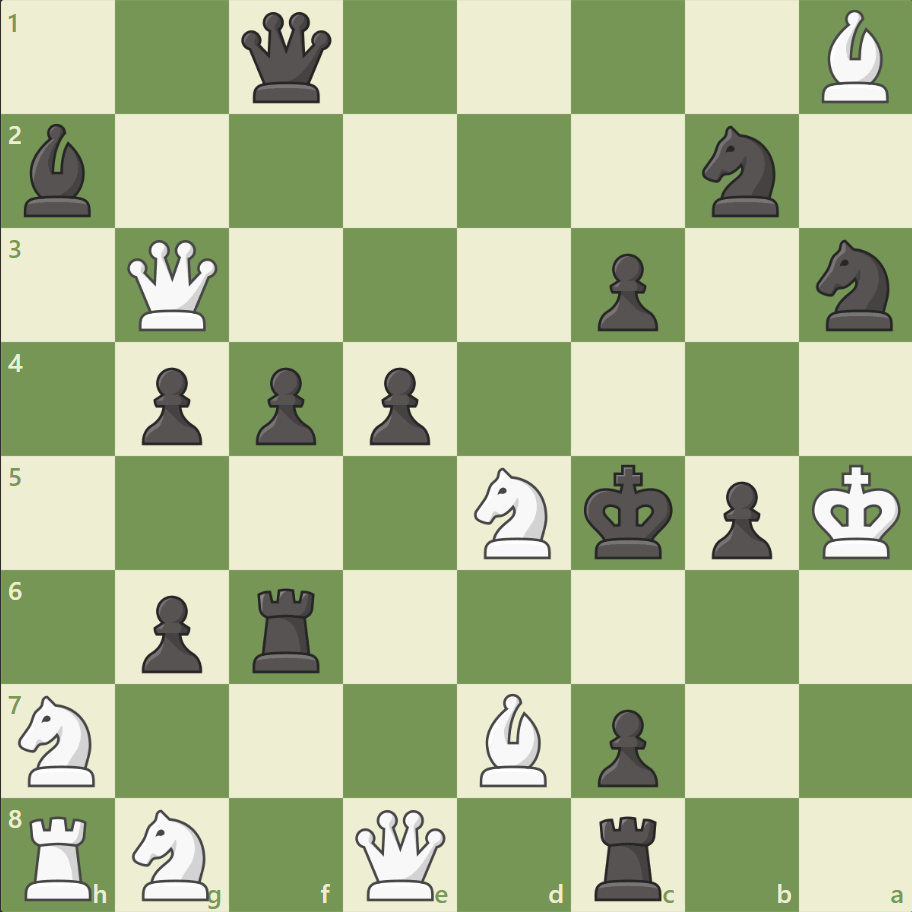B: (471, 687, 555, 790), (812, 6, 896, 109)
K: (806, 458, 906, 566)
N: (124, 802, 222, 904), (11, 688, 108, 791), (465, 461, 562, 564)
Q: (351, 804, 450, 903), (124, 236, 223, 335)
R: (19, 806, 102, 904)
b: (17, 120, 101, 222)
k: (579, 458, 679, 566)
n: (806, 234, 903, 337), (692, 121, 789, 223)
p: (133, 586, 208, 677), (701, 473, 776, 564), (247, 359, 322, 450), (133, 359, 208, 450), (588, 700, 662, 791), (361, 359, 435, 450), (588, 246, 662, 337)
q: (237, 9, 336, 108)
r: (587, 806, 670, 904), (246, 579, 329, 676)
